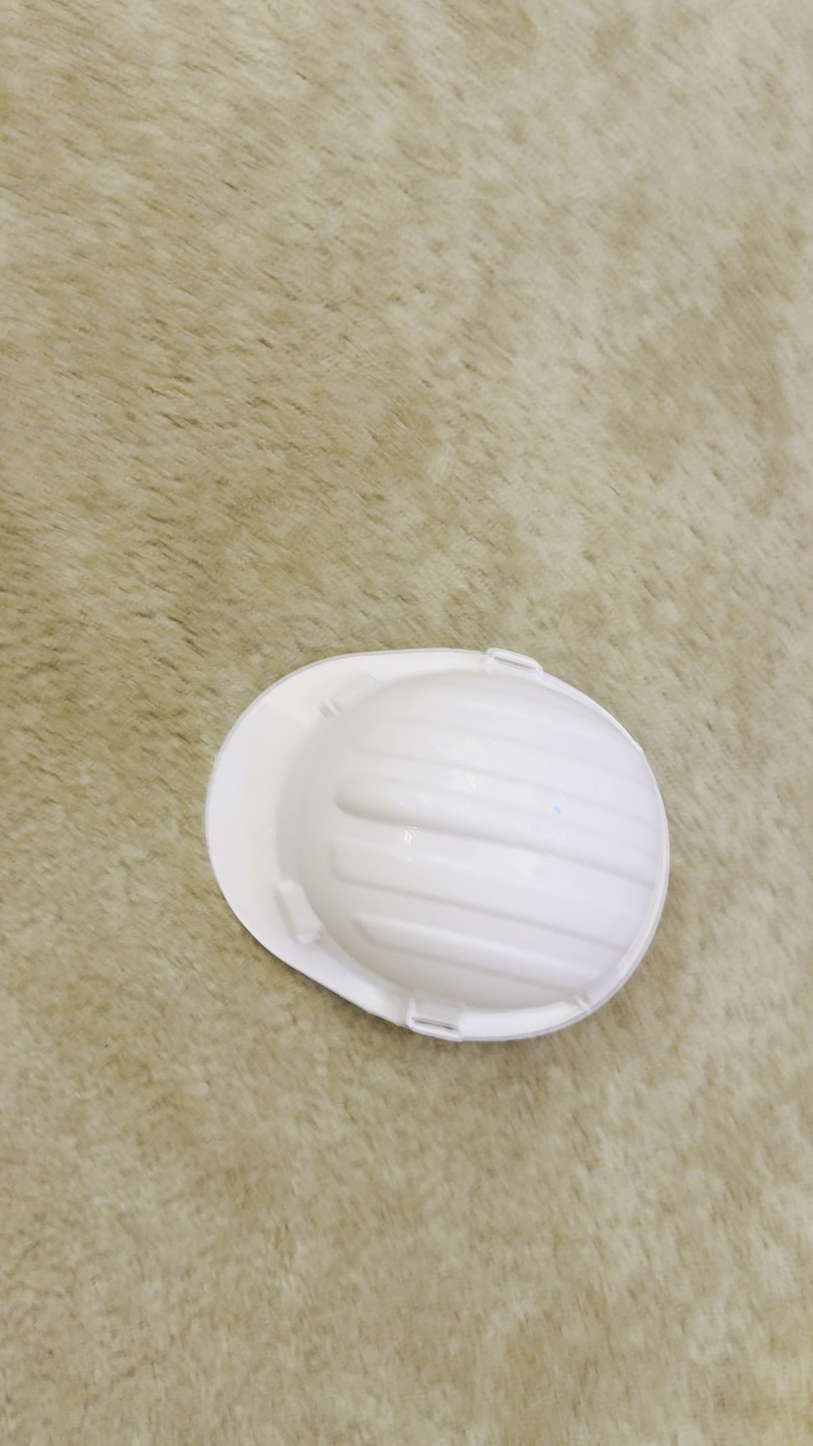safety_helmet: (202, 643, 672, 1045)
